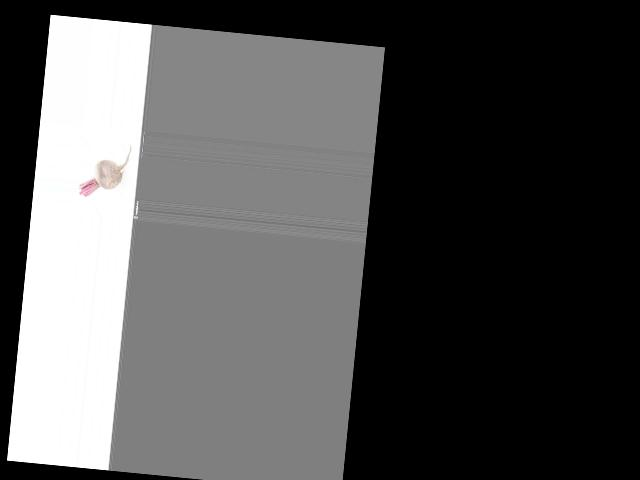beet: (78, 139, 132, 200)
